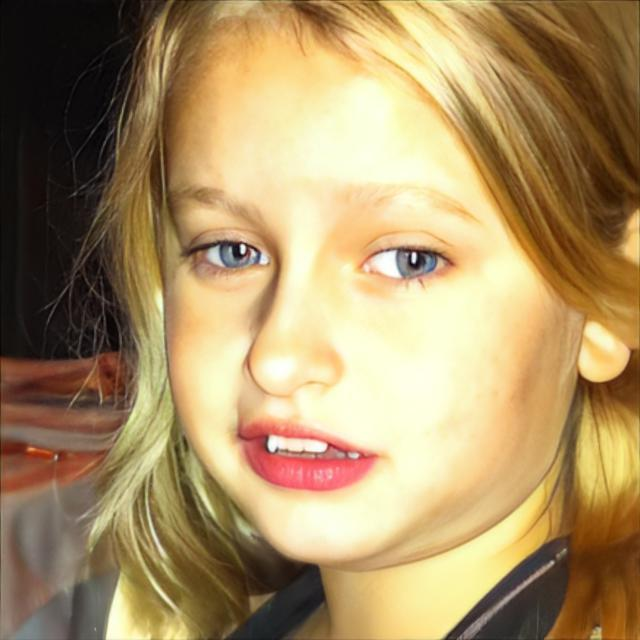content: (146, 39, 565, 565)
